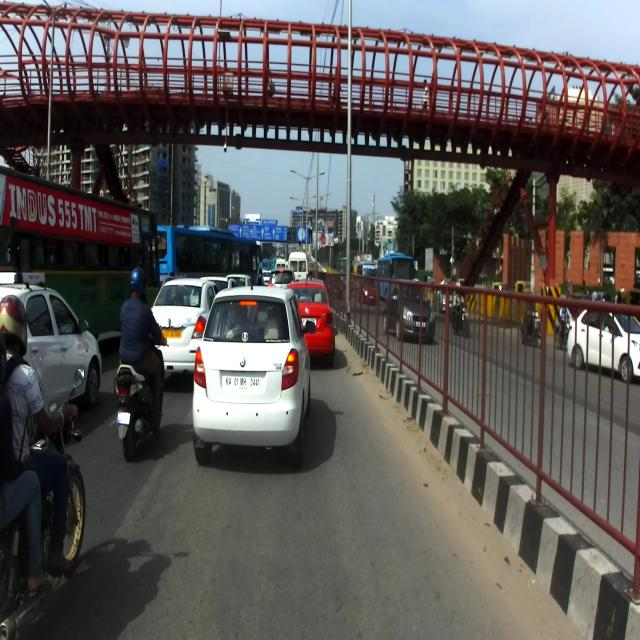car ahead at: (195, 285, 312, 459)
motorcycle ahead at: (114, 361, 168, 460)
